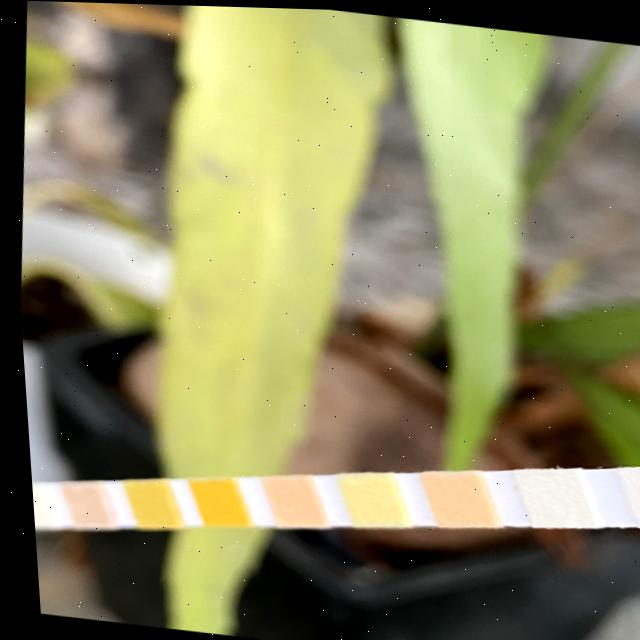Bilirubin: (26, 488, 41, 526)
Blood: (196, 480, 229, 523)
Ketone: (64, 484, 93, 526)
Leukocytes: (629, 463, 640, 522)
Nitrite: (523, 467, 574, 525)
Protein: (341, 475, 383, 525)
SpGravity: (129, 483, 160, 526)
Urobilinogen: (430, 472, 474, 523)
pH: (265, 477, 306, 524)
